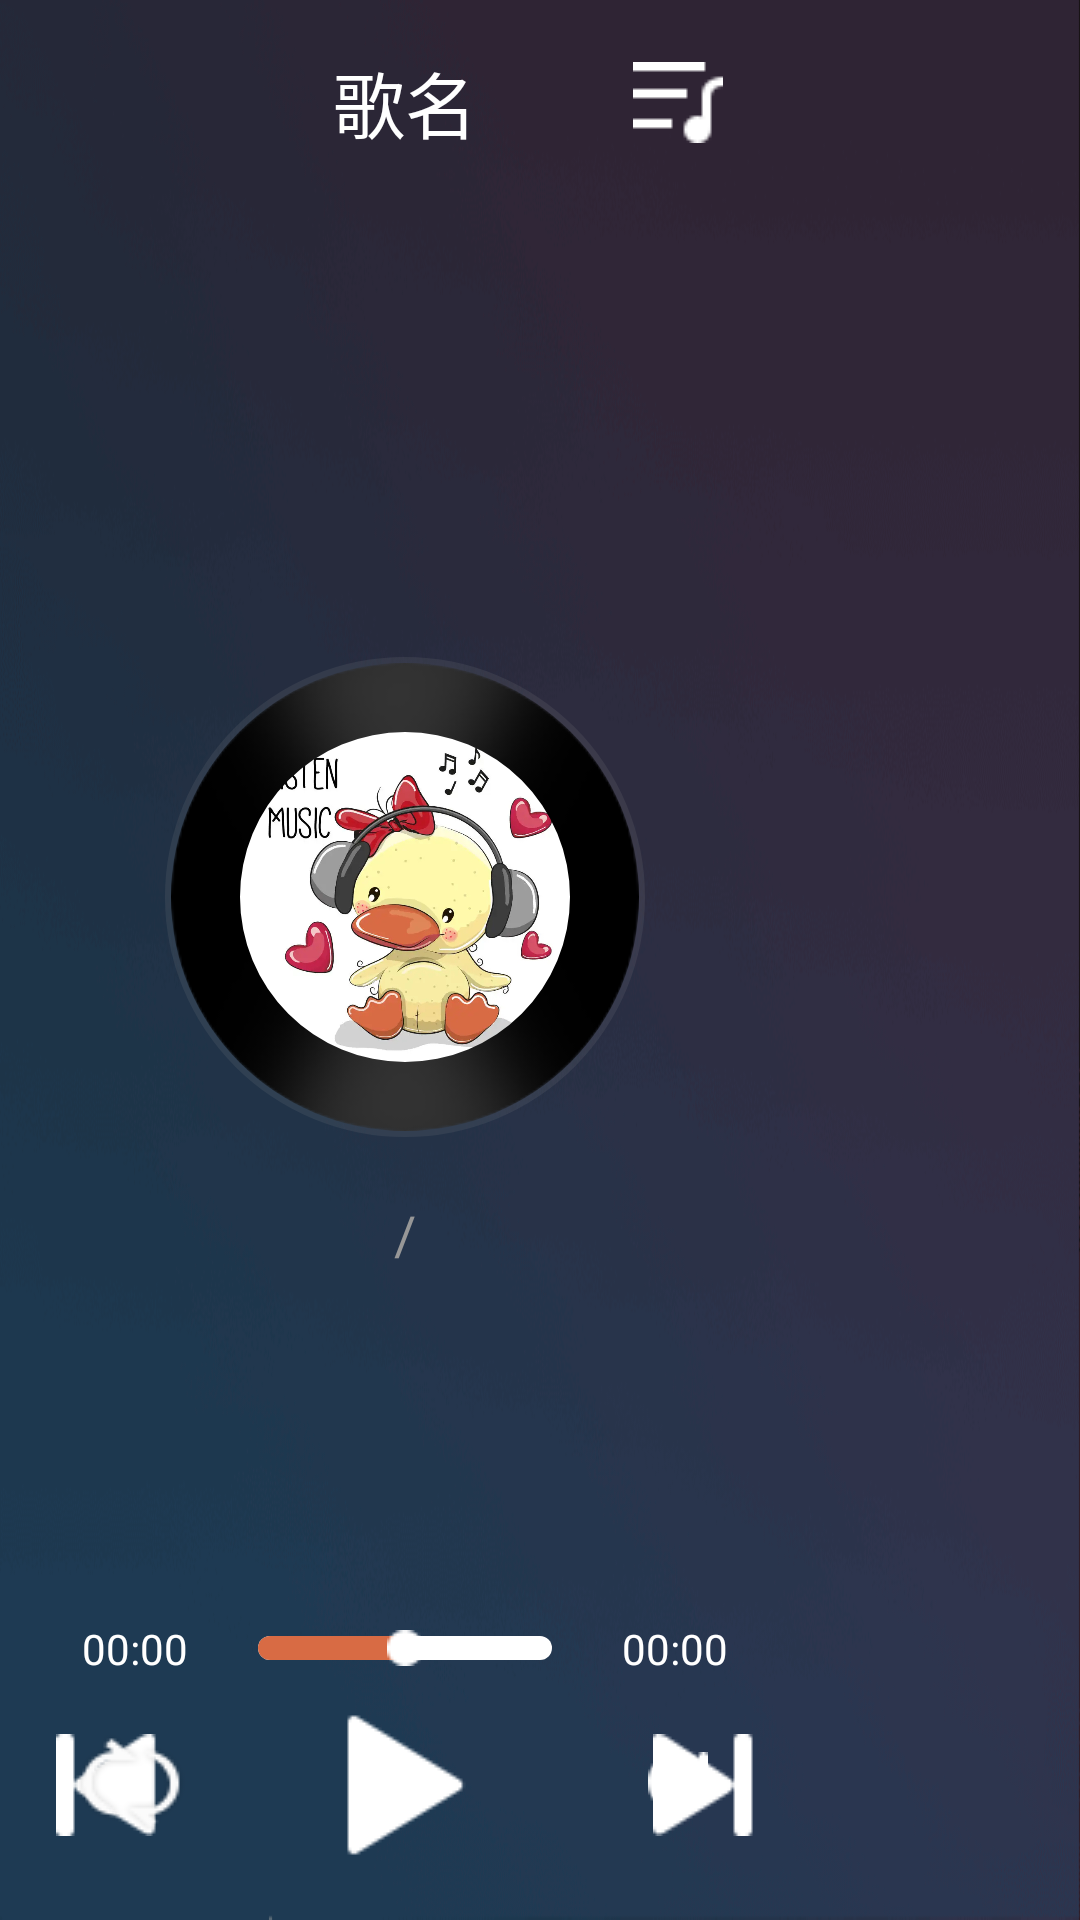

Icons on this 1080x1920 Android screen, each with the point to tap as (x,y):
car list: (678,102)
car play: (405,1785)
